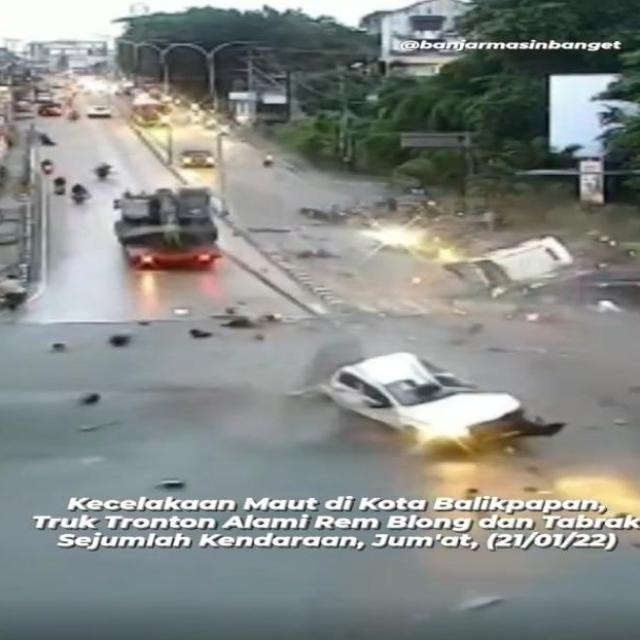accident: (329, 350, 555, 466), (426, 209, 640, 299)
